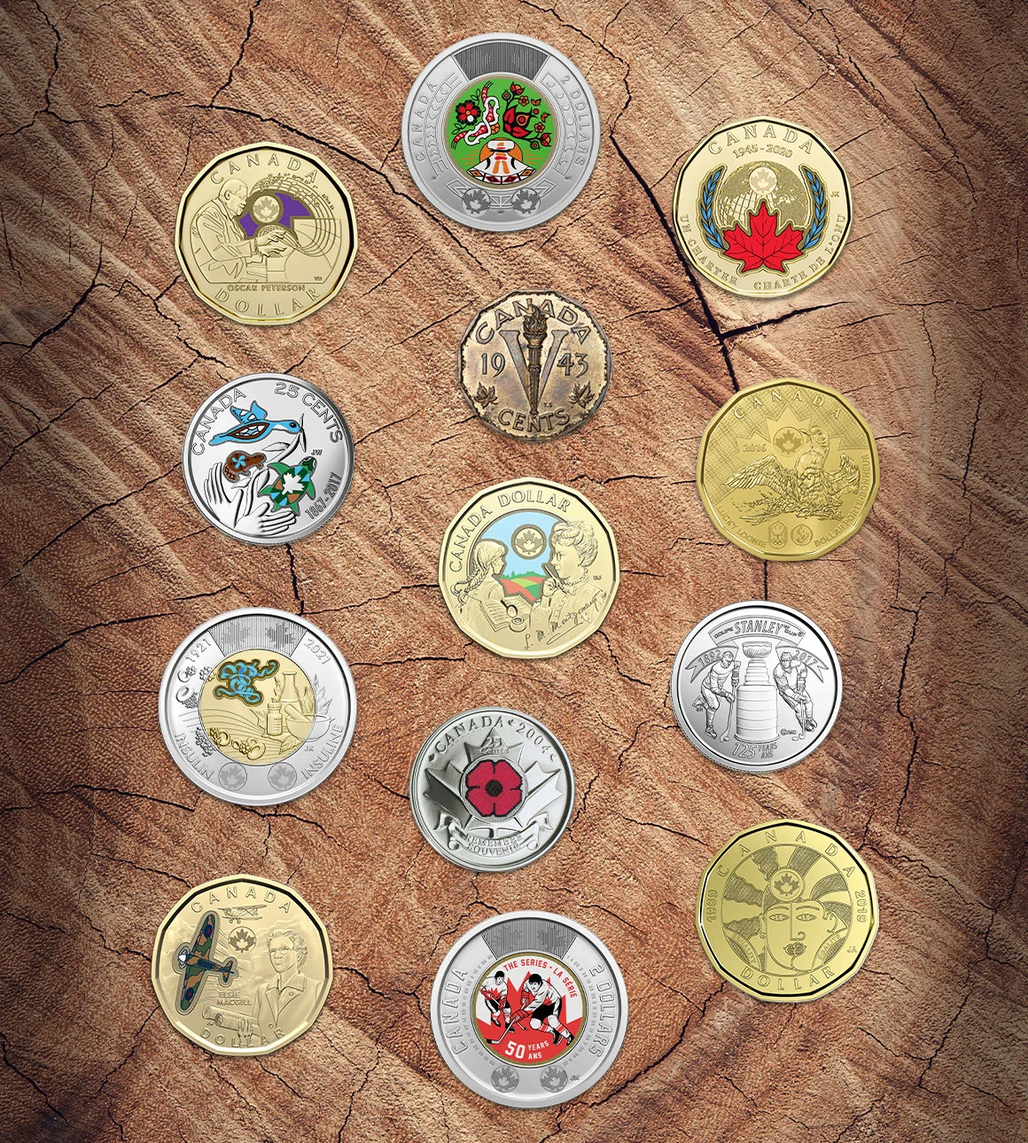coin: (401, 33, 598, 231), (159, 609, 355, 805), (431, 912, 627, 1107), (697, 378, 878, 560), (175, 144, 356, 324), (697, 820, 877, 1001), (152, 875, 331, 1055), (439, 478, 619, 657), (673, 117, 851, 297), (671, 601, 841, 772), (183, 373, 353, 544), (410, 709, 572, 871), (458, 291, 611, 440)
